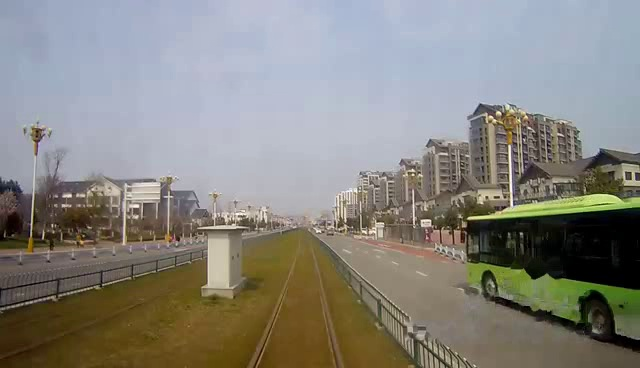bus: (462, 194, 640, 348)
